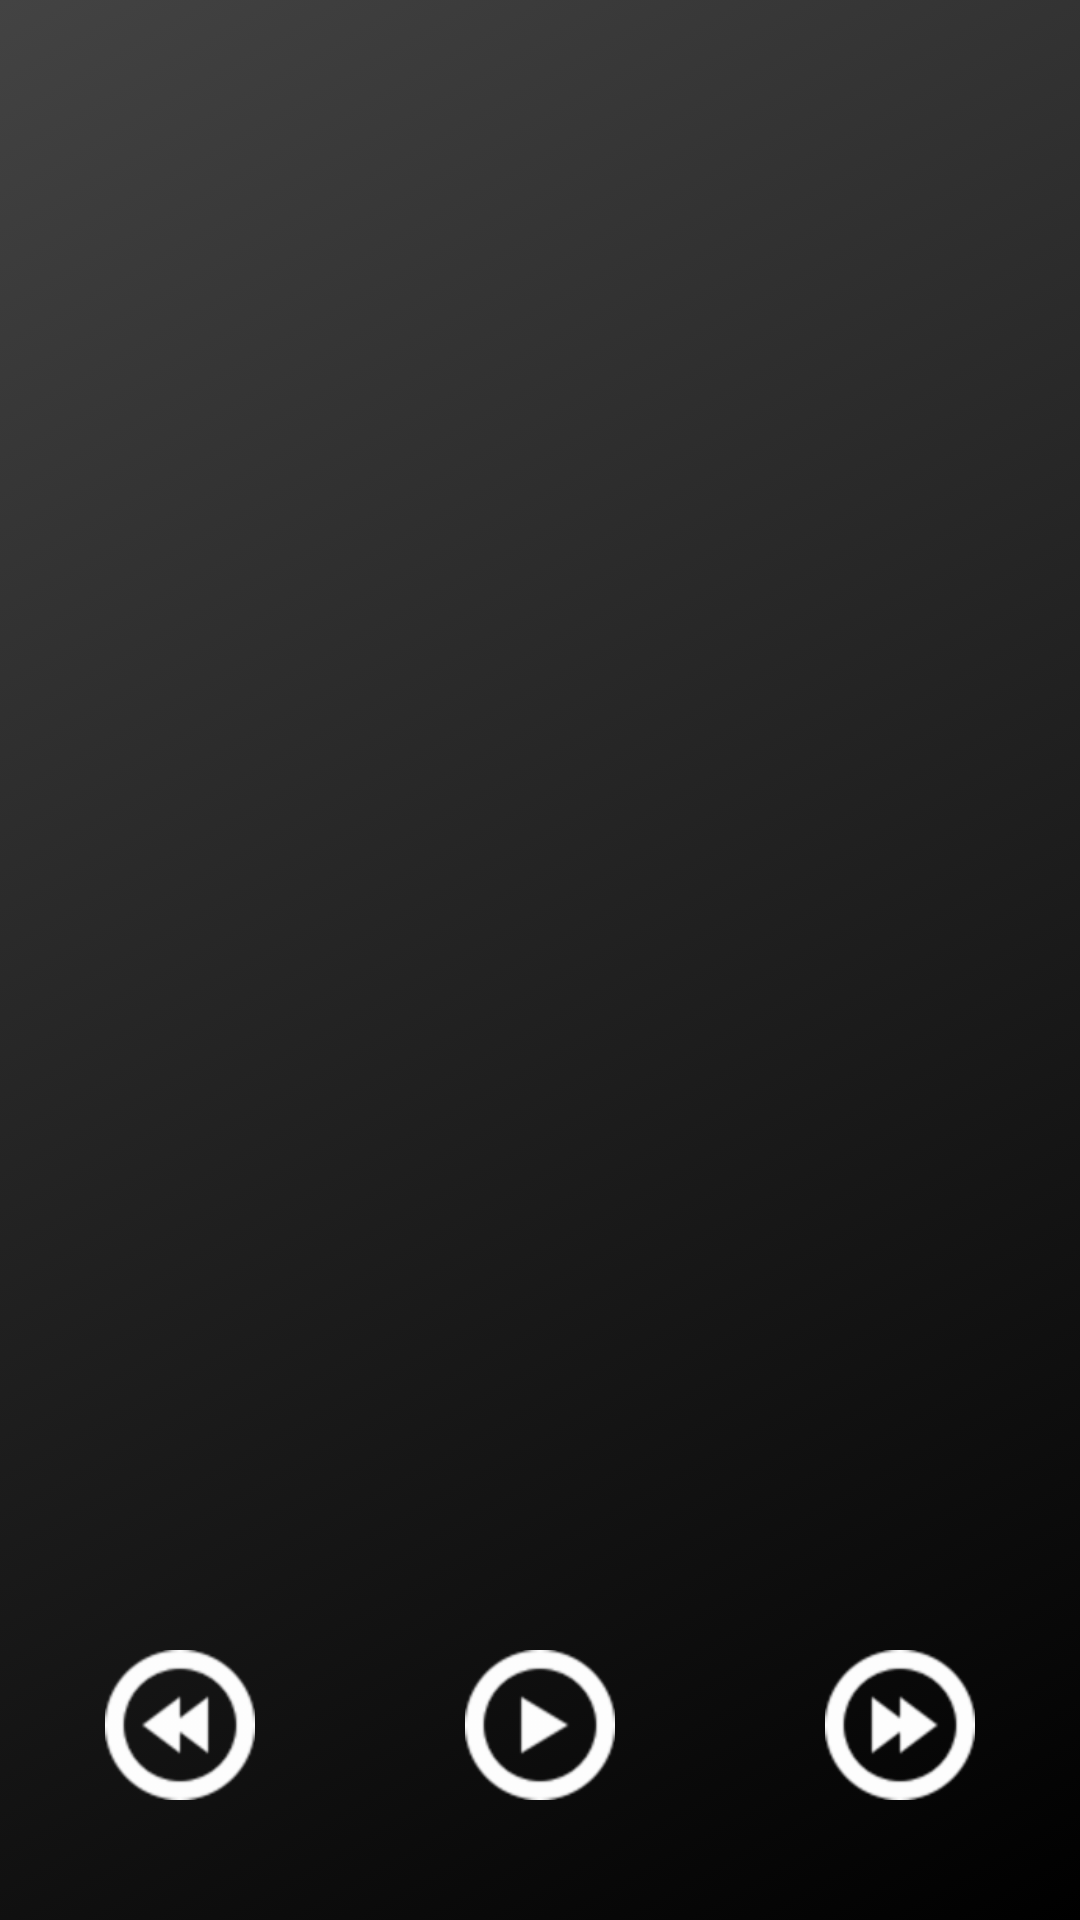

Icon bounding boxes for this 1080x1920 phone screenshot, format (x1, y1, x2, y2):
next: (825, 1650, 975, 1800)
play: (465, 1650, 615, 1800)
previous: (105, 1650, 255, 1800)
